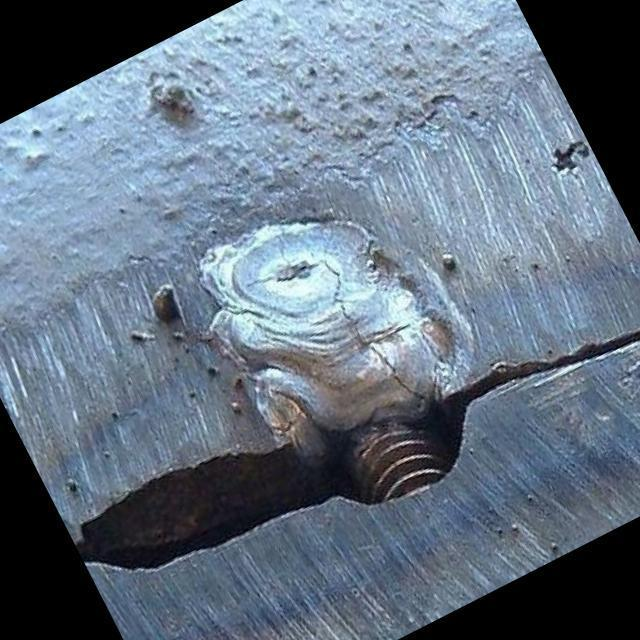defect: (248, 215, 429, 408)
